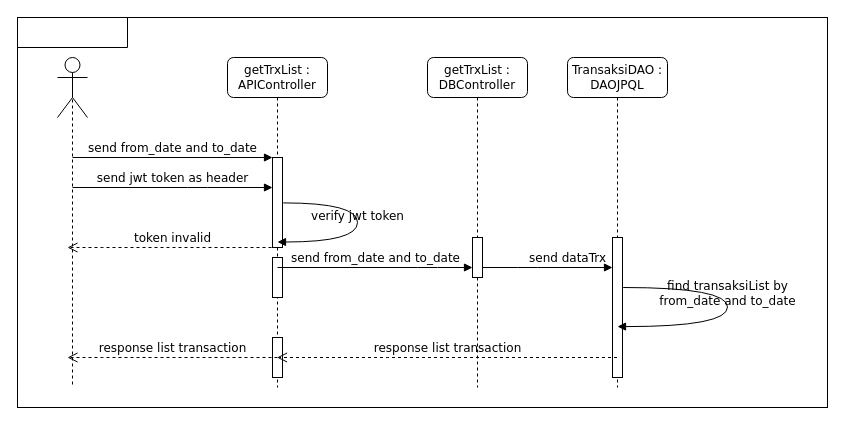
Some shapes in this 845 by 425 pixel diagram are drawn without their labels. The box of each missing label's shape, as (x1, y1, x2, y2) in pixels:
Mutasi: (16, 16, 128, 48)
Nasabah: (56, 56, 88, 118)
